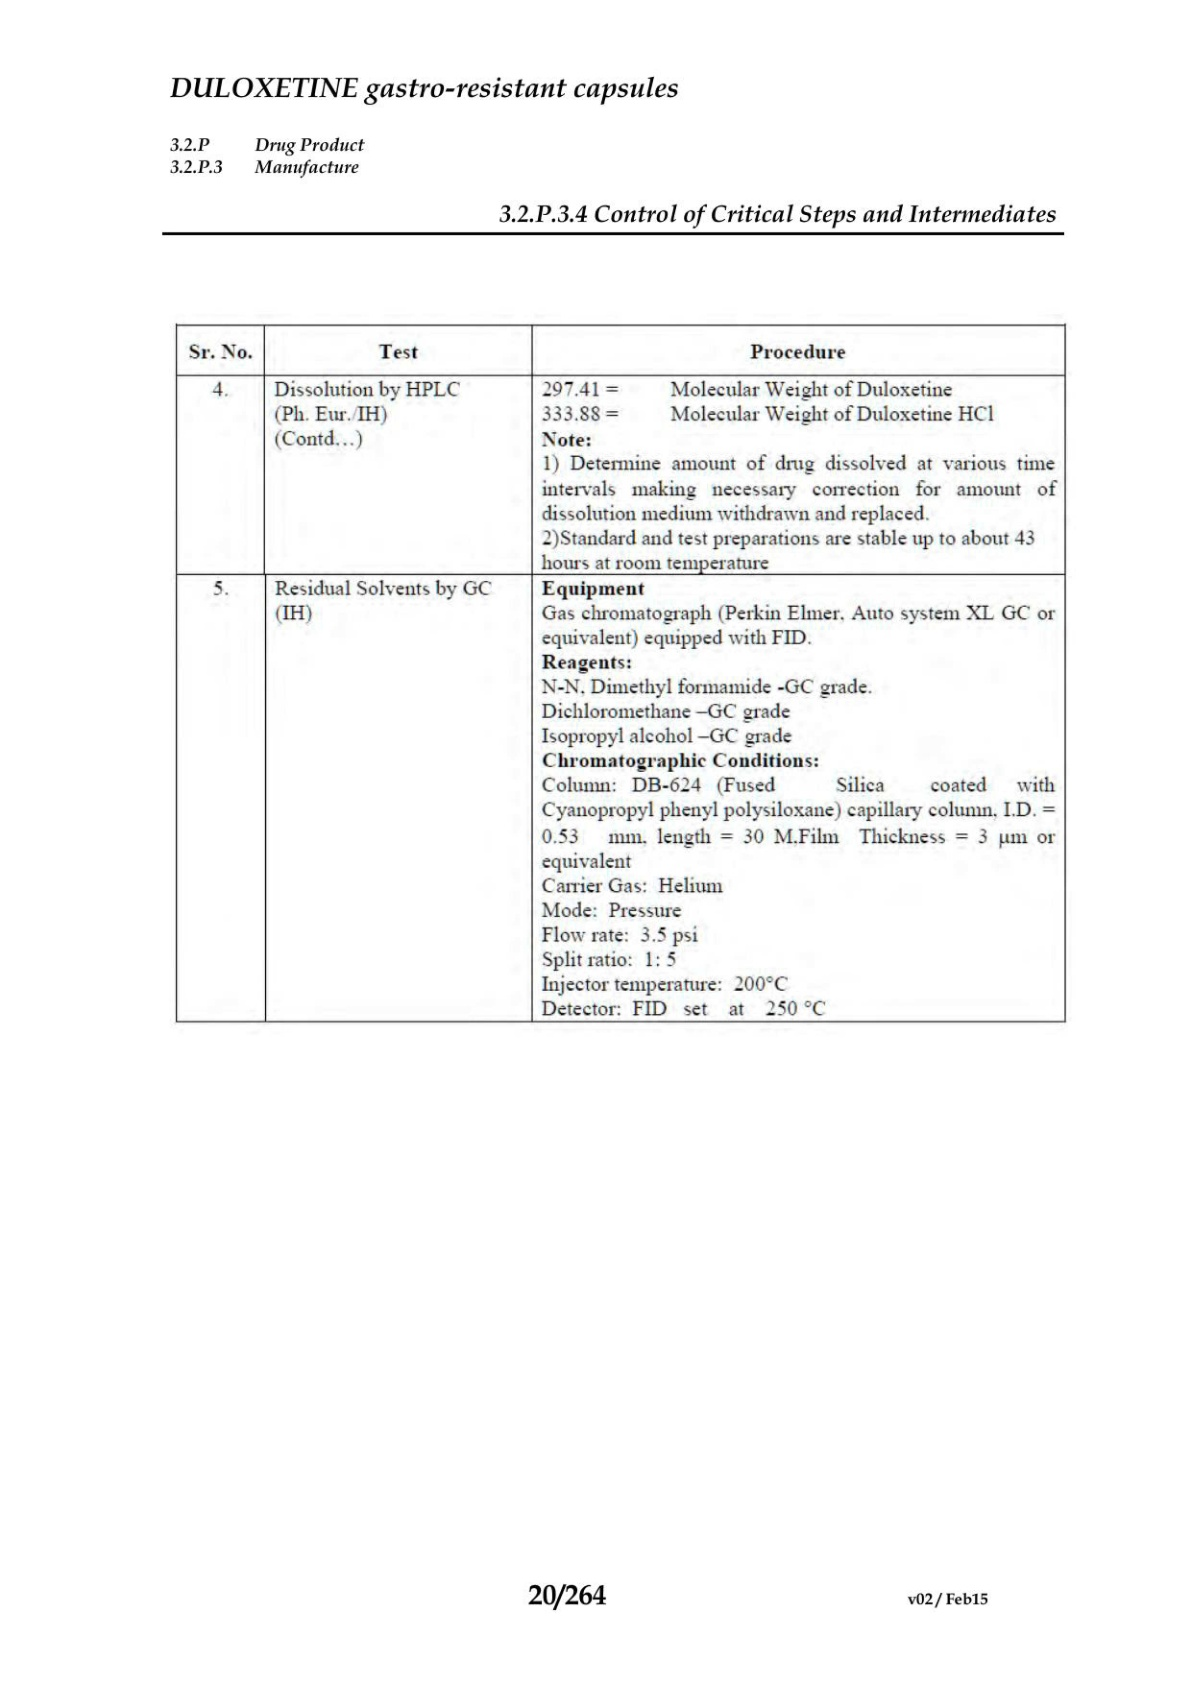full_lined: (175, 323, 1068, 1024)
